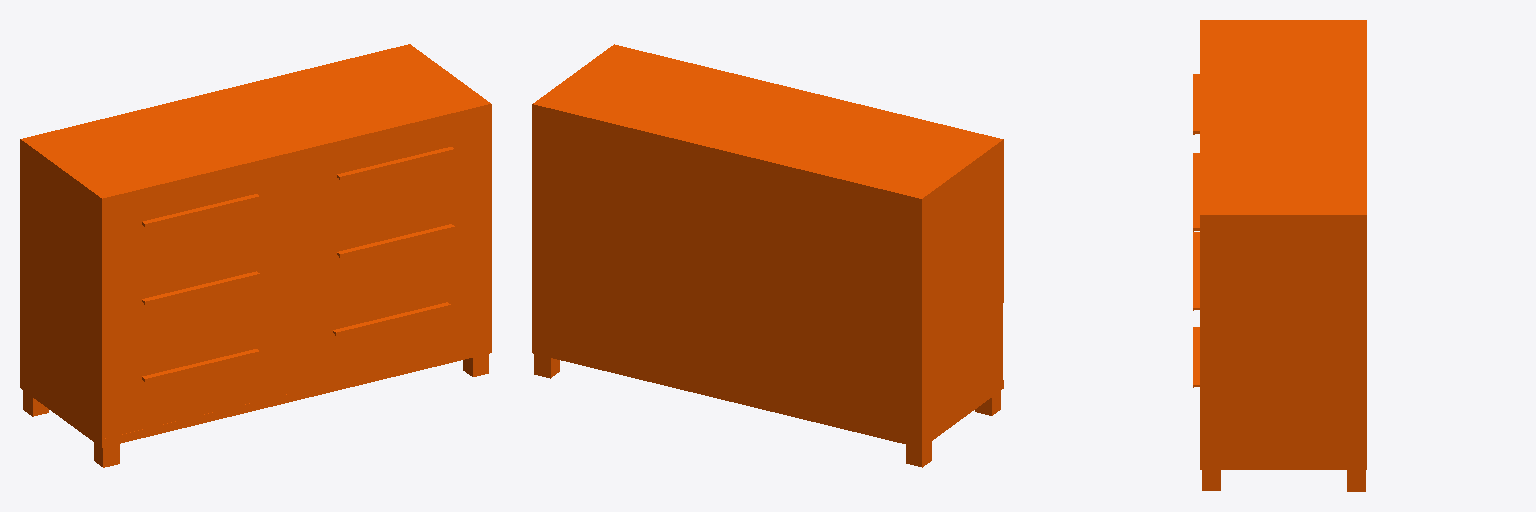
The robot description file, URDF, robot "Dresser_b9543d9f1ff694f737d93d47ecc95926":
<?xml version="1.0" ?>
<robot name="Dresser_b9543d9f1ff694f737d93d47ecc95926">
   <material name="obj_color">
      <color rgba="1.0 0.423529411765 0.0392156862745 1.0"/>
   </material>
   <link name="top">
      <inertial>
         <origin rpy="0.001805415142737659 0.003561302013012814 0.004486388031052027" xyz="0.0004552351700198816 0.002495627552115936 -0.002443466463788031"/>
         <mass value="1.258866617479711"/>
         <inertia ixx="0.001805416135753897" ixy="8.600772784909618e-07" ixz="1.124264022568382e-06" iyy="0.004486339480879438" iyz="6.682117747926853e-06" izz="0.003561349570169165"/>
      </inertial>
      <visual>
         <origin rpy="0 0 0" xyz="0 0 0"/>
         <geometry>
            <mesh filename="top_watertight_tiny.stl" scale="1 1 1"/>
         </geometry>
         <material name="obj_color"/>
      </visual>
      <collision>
         <origin rpy="0 0 0" xyz="0 0 0"/>
         <geometry>
            <mesh filename="top_watertight_tiny.obj" scale="1 1 1"/>
         </geometry>
      </collision>
   </link>
   <link name="bottom">
      <inertial>
         <origin rpy="1.633333333199431e-08 1.633333333199431e-08 1.633333333362855e-08" xyz="0.3464080000000008 0.3464080000000008 0.3464080000000008"/>
         <mass value="0.0009800000000000017"/>
         <inertia ixx="1.633333333253906e-08" ixy="5.447480642029219e-19" ixz="5.447480642029219e-19" iyy="1.633333333253906e-08" iyz="5.447480642029219e-19" izz="1.633333333253906e-08"/>
      </inertial>
      <visual>
         <origin rpy="0 0 0" xyz="0 0 0"/>
         <geometry>
            <mesh filename="bottom_watertight_tiny.stl" scale="1 1 1"/>
         </geometry>
         <material name="obj_color"/>
      </visual>
   </link>
   <link name="world"/>
   <joint name="world_to_base" type="fixed">
      <origin xyz="0 0 0"/>
      <axis xyz="0 0 0"/>
      <parent link="world"/>
      <child link="bottom"/>
   </joint>
   <joint name="rotation" type="revolute">
      <origin xyz="0 0 0"/>
      <axis xyz="0 0 -1"/>
      <parent link="bottom"/>
      <child link="top"/>
      <dynamics damping="1.0" friction="1.0"/>
      <limit effort="0.1" velocity="0.1" lower="0" upper="0.001"/>
   </joint>
</robot>

--- Facts derived from the render (not from the file) ---
Views: 3 orthographic renders of the robot side by side, from view 1: azimuth 30°, elevation 25°; view 2: azimuth 150°, elevation 25°; view 3: azimuth 270°, elevation 25°.
Model Dresser_b9543d9f1ff694f737d93d47ecc95926 with 3 links and 2 joints (1 revolute, 1 fixed), rooted at world, posed all joints at 0.
Visible links, largest first — view 1: top; view 2: top; view 3: top.
Boxes of the visible links, x1,y1,x2,y2 form: top: [20, 44, 491, 467]; top: [532, 44, 1003, 467]; top: [1193, 20, 1366, 491].
Bounding box of the posed robot: 0.173 × 0.0657 × 0.1149 m (x, y, z).
Meshes: 2 distinct files referenced, 1 mesh visuals loaded (1 binary STL); not drawn: 1 (reference not matched to a file when rendering).
